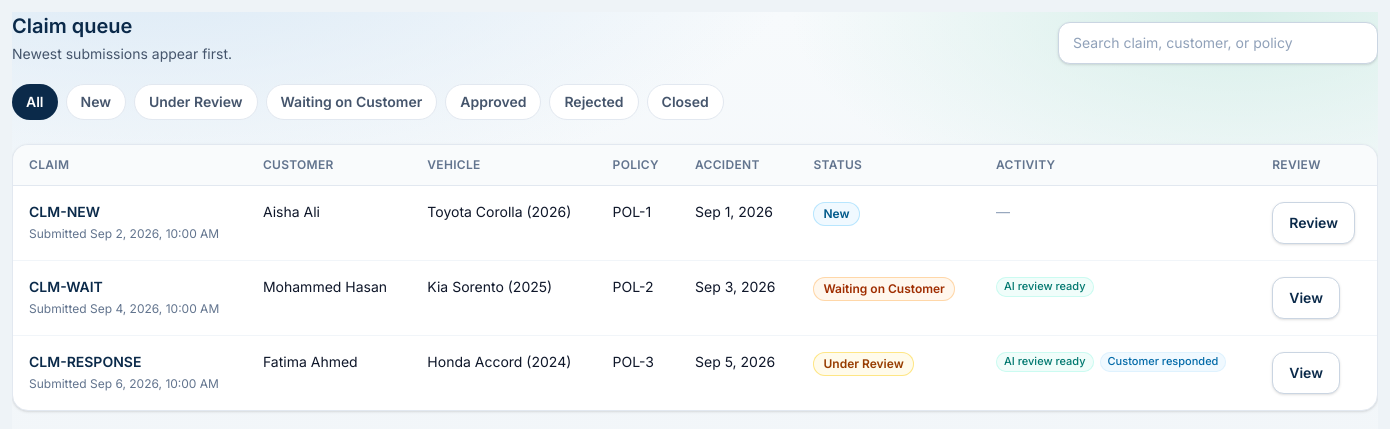
Scenario: ClaimsQueue › searches claim, customer, and policy fields locally
Step 1. Type "Aisha" into the search field → (1218, 43), box [1058,22,1378,64]
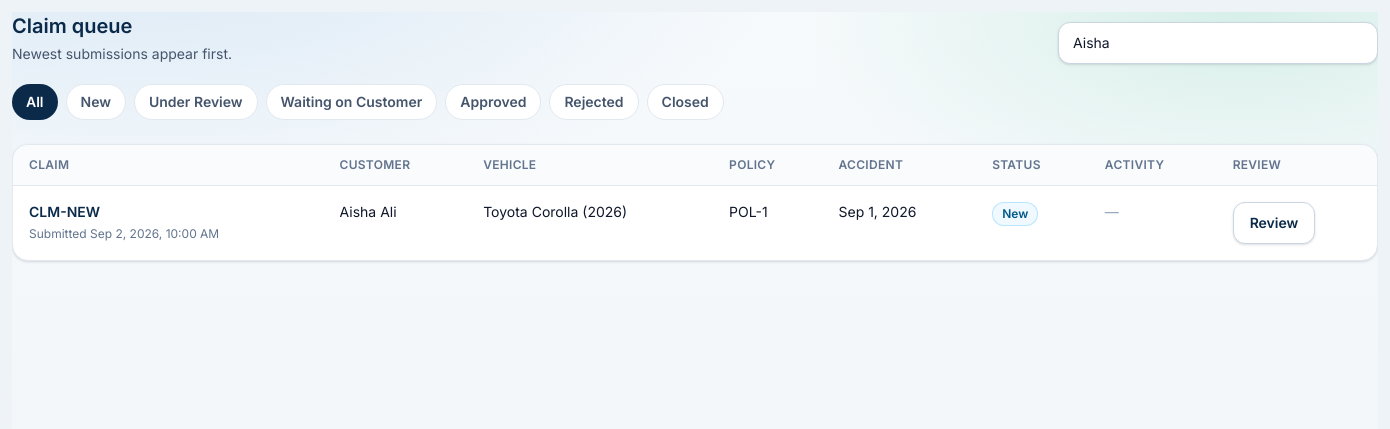
expect the text "CLM-NEW" is shown: met, box [29,203,100,220]
expect the text "CLM-WAIT" is gone: met
